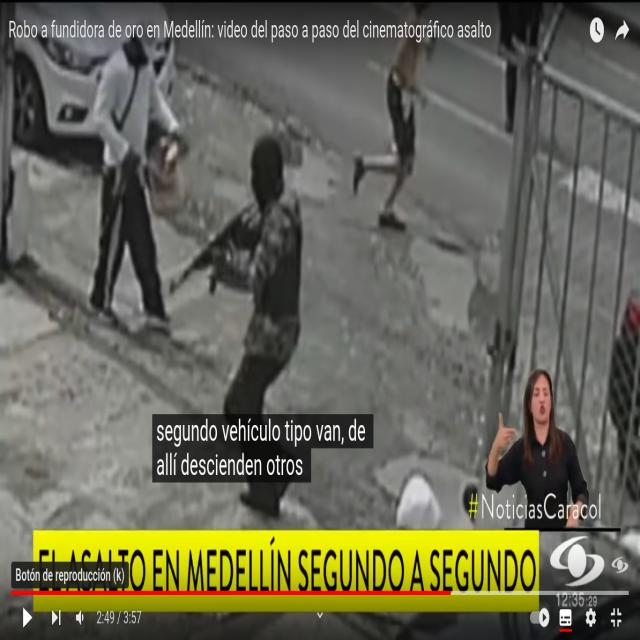FRifle: (171, 198, 267, 300)
